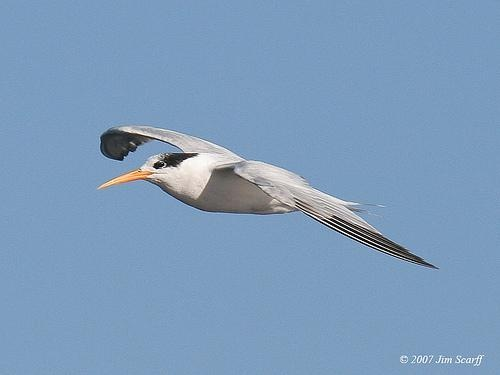bird: (94, 127, 440, 270)
